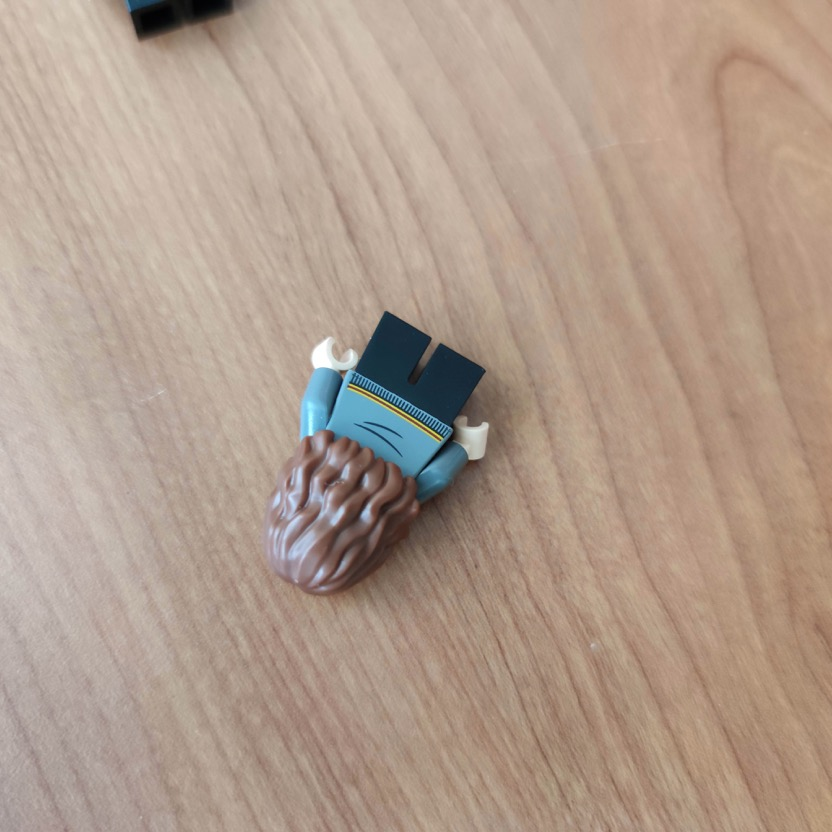lego: (265, 311, 490, 597)
